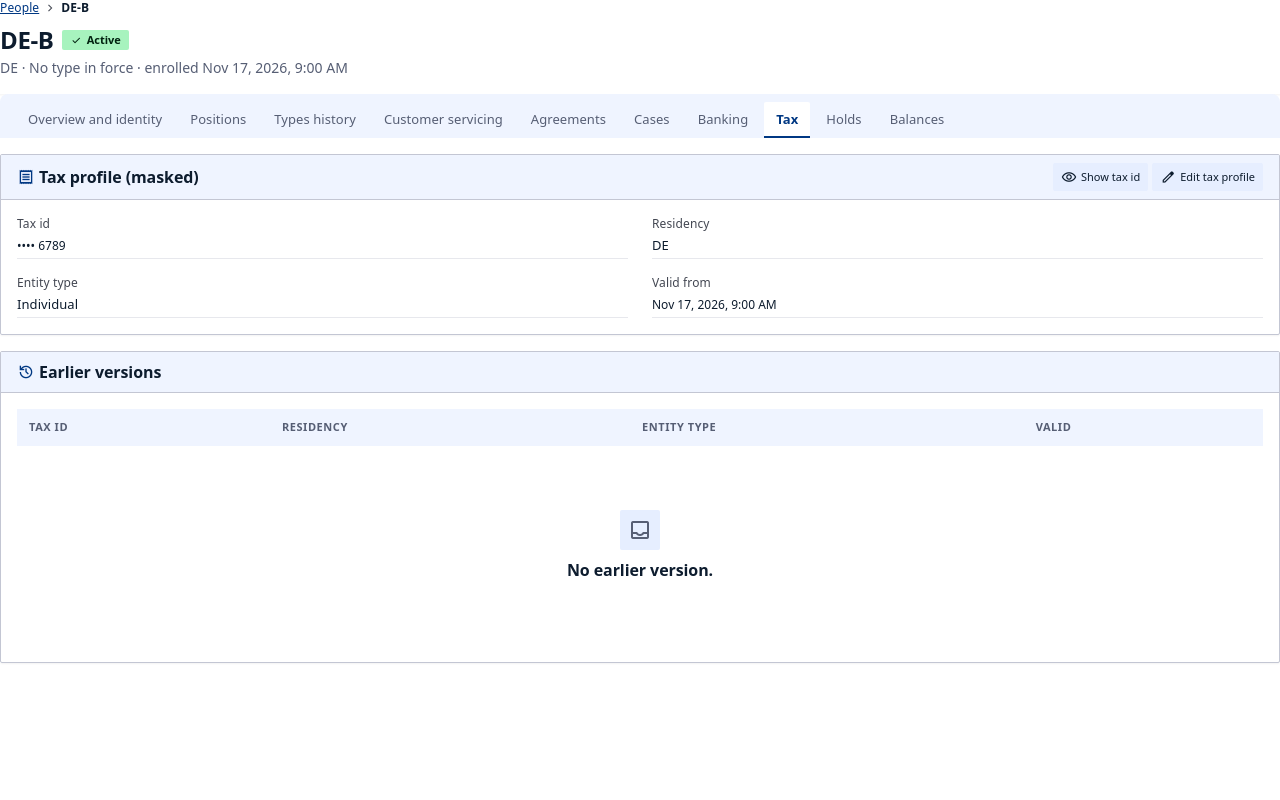
Test case: SC-09 Tax › shows the masked id; edits with tax.manage and shows the tax id once with participant.unmask
The image size is (1280, 800).
Expected: the text "•••• 6789" is shown, [17,237,66,254]
Click the button "Show tax id" at x=1101, y=177, box [1053,163,1148,191]
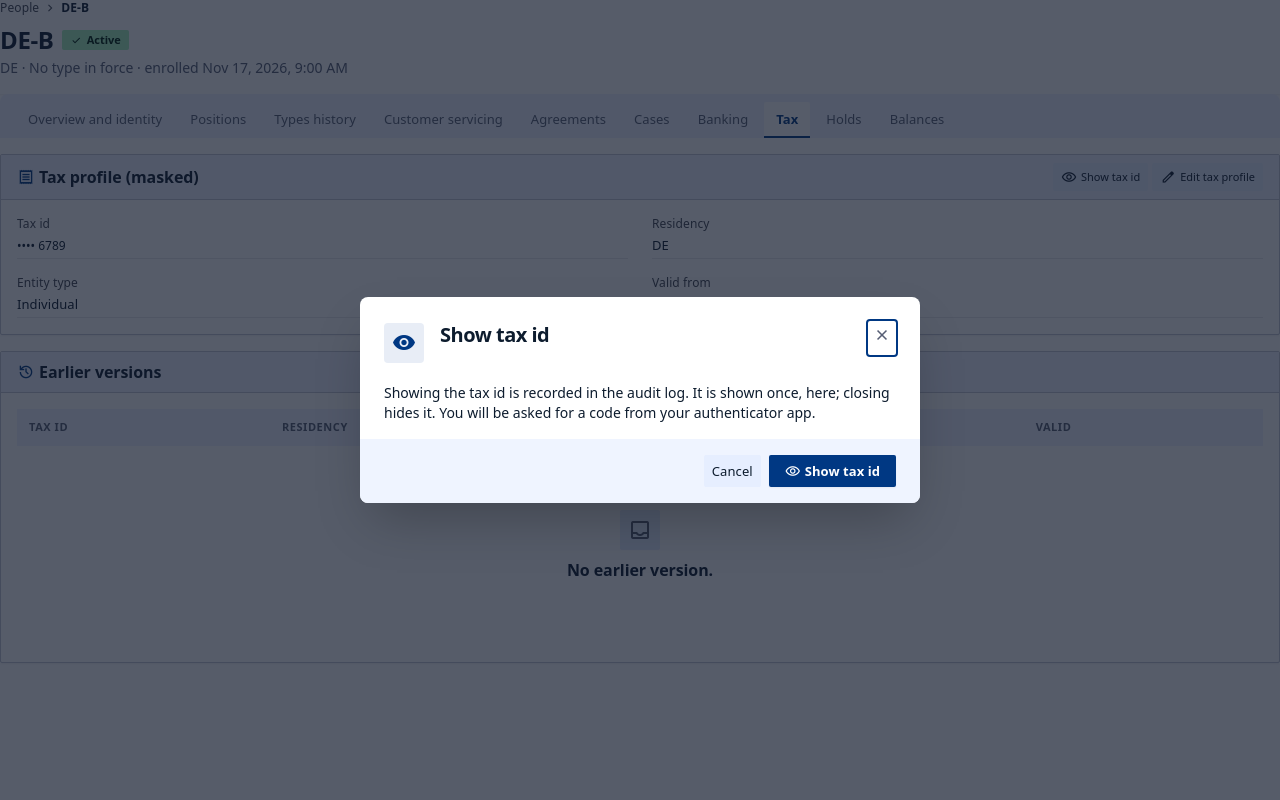
Click the button "Show tax id" at x=832, y=471, box [769,455,896,487]
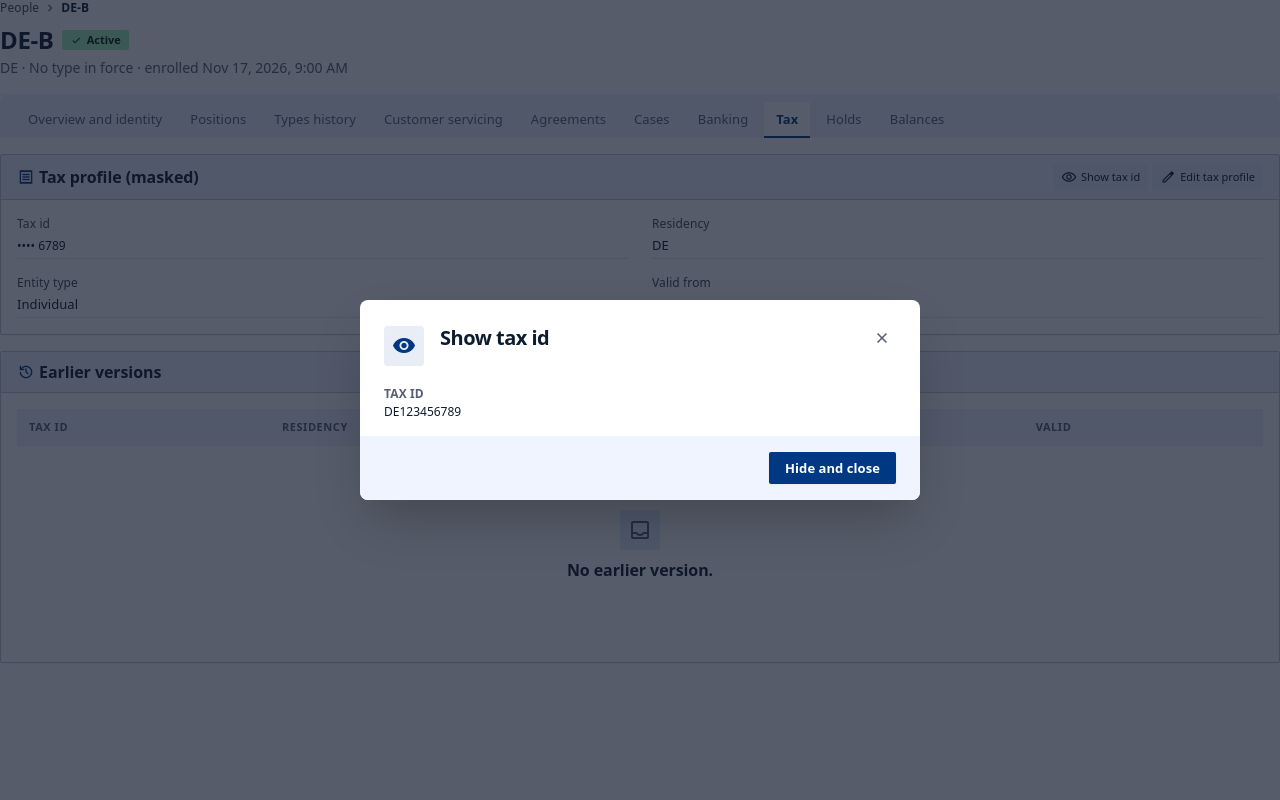
Click the button "Hide and close" at x=832, y=468, box [769,452,896,484]
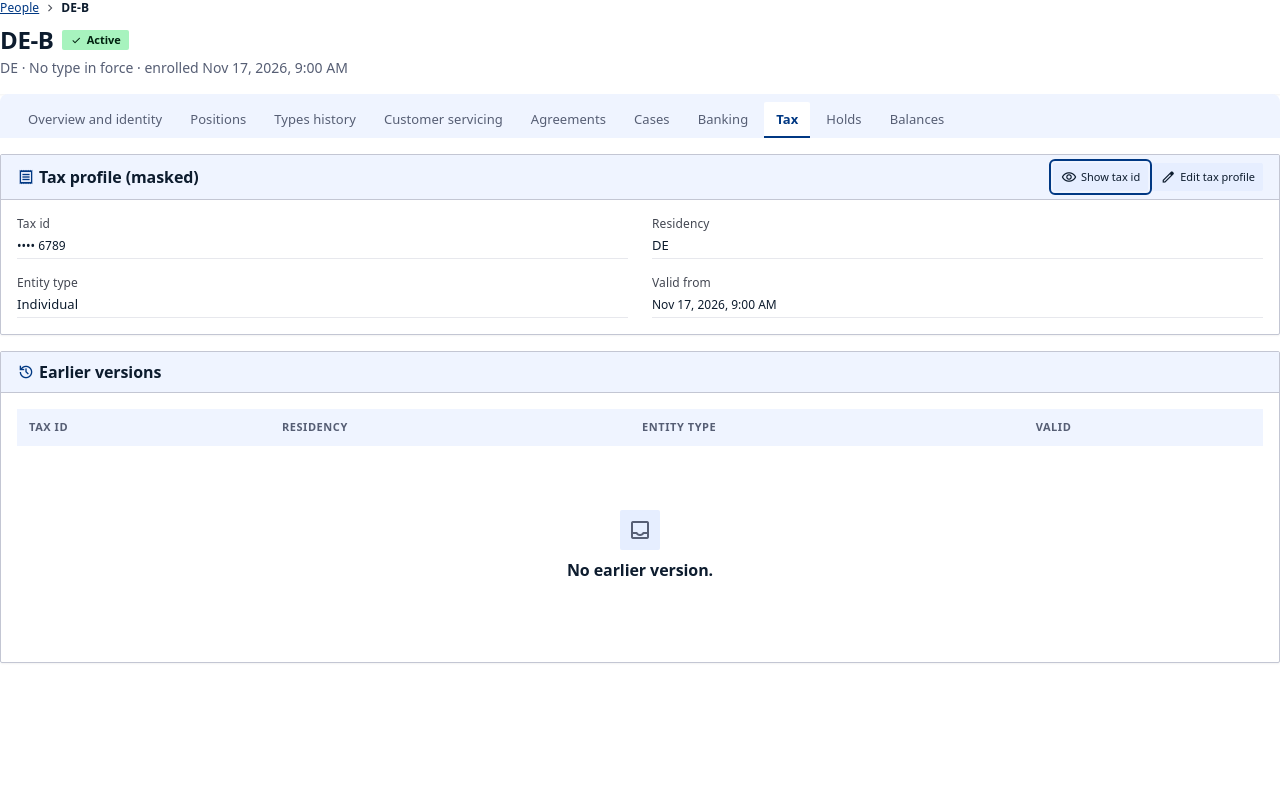
Expected: the text "DE123456789" is gone
Click the button "Edit tax profile" at x=1208, y=177, box [1152,163,1263,191]
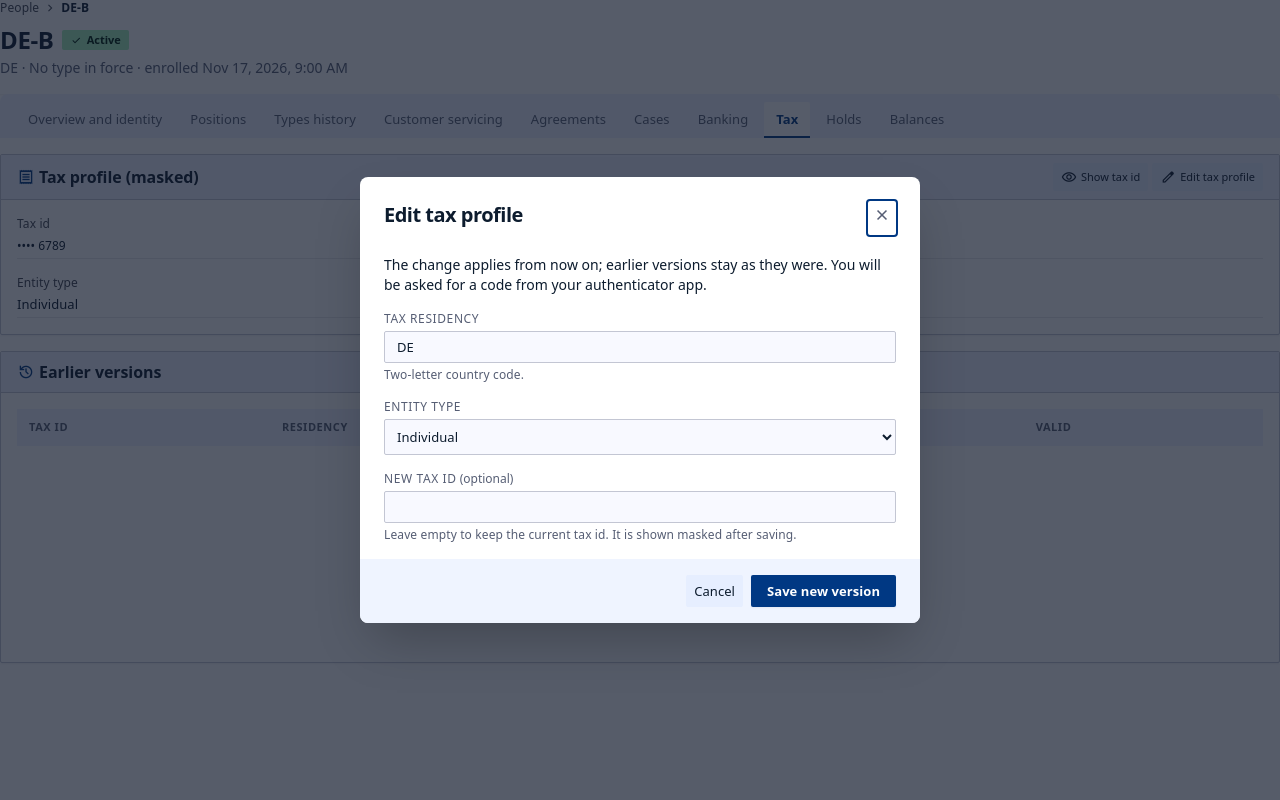
Type "de 999 999 999" into the field labelled "New tax id (optional)" at x=640, y=507, box [384,491,896,523]
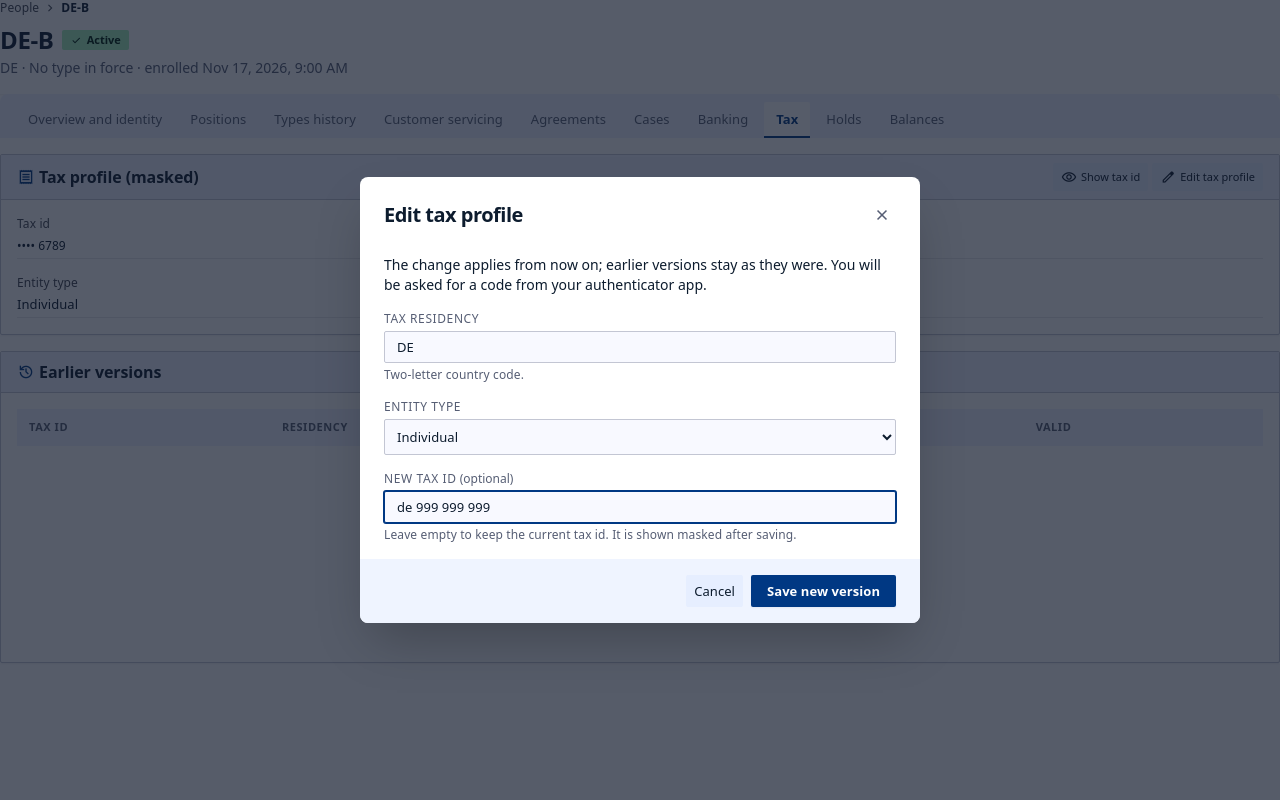
Click the button "Save new version" at x=824, y=591, box [751,575,896,607]
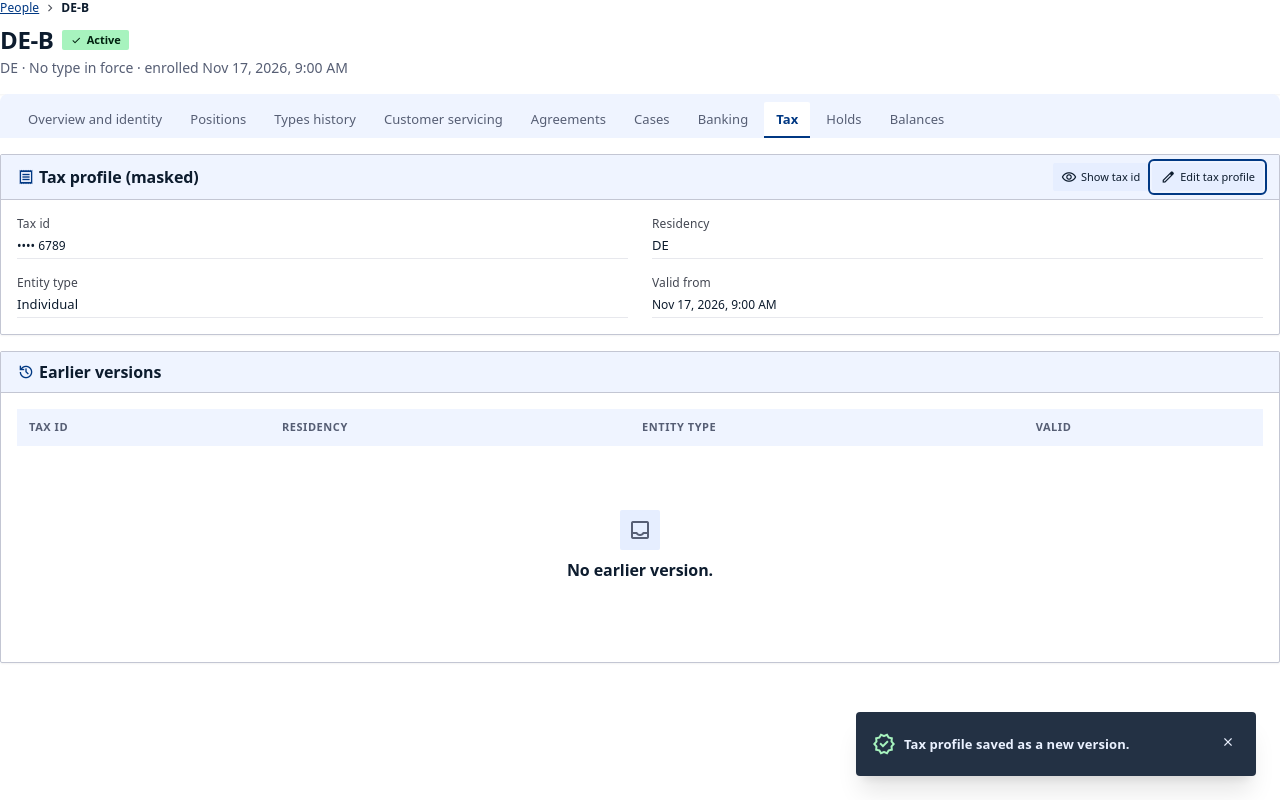
Expected: the text "Tax profile saved as a new version." is shown, [904,735,1130,753]
